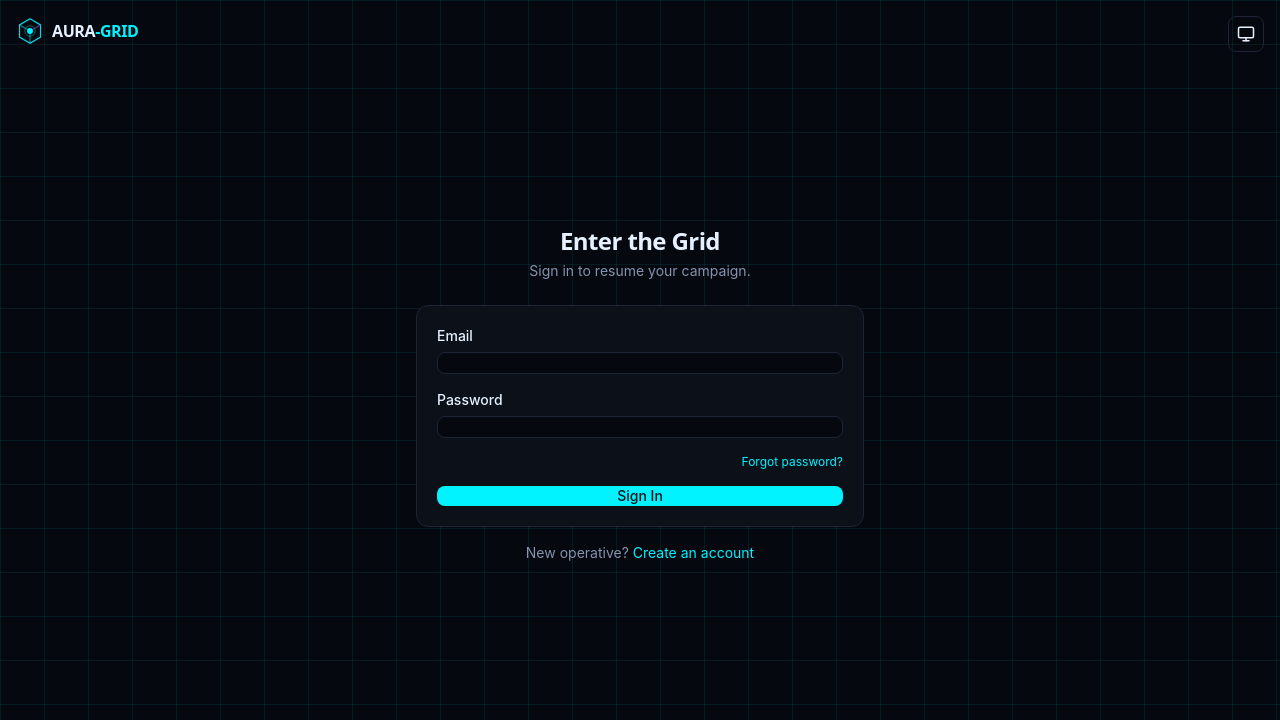
Scenario: LoginPage validation › shows validation errors when submitting empty fields
Step 1. Click the button "Sign In" → (640, 496), box [437,486,843,506]
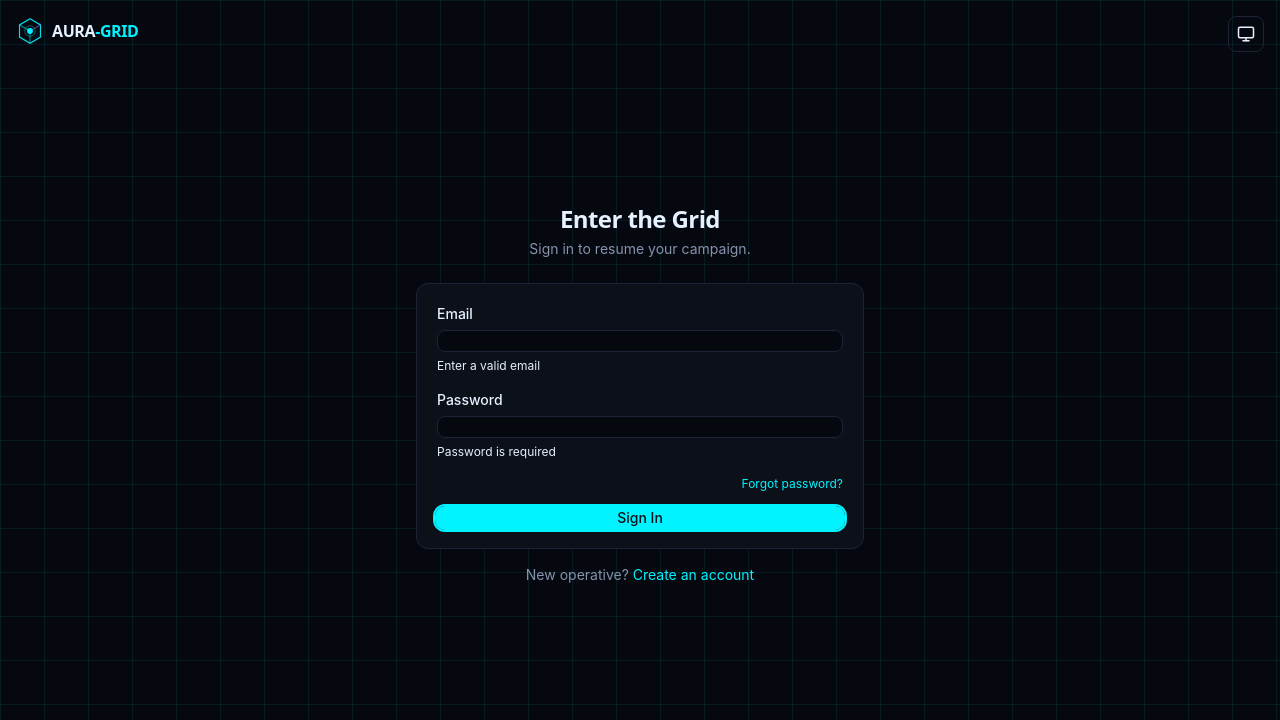
Check: the text "Enter a valid email" is shown, box [437,358,540,373]
Check: the text "Password is required" is shown, box [437,444,556,459]
